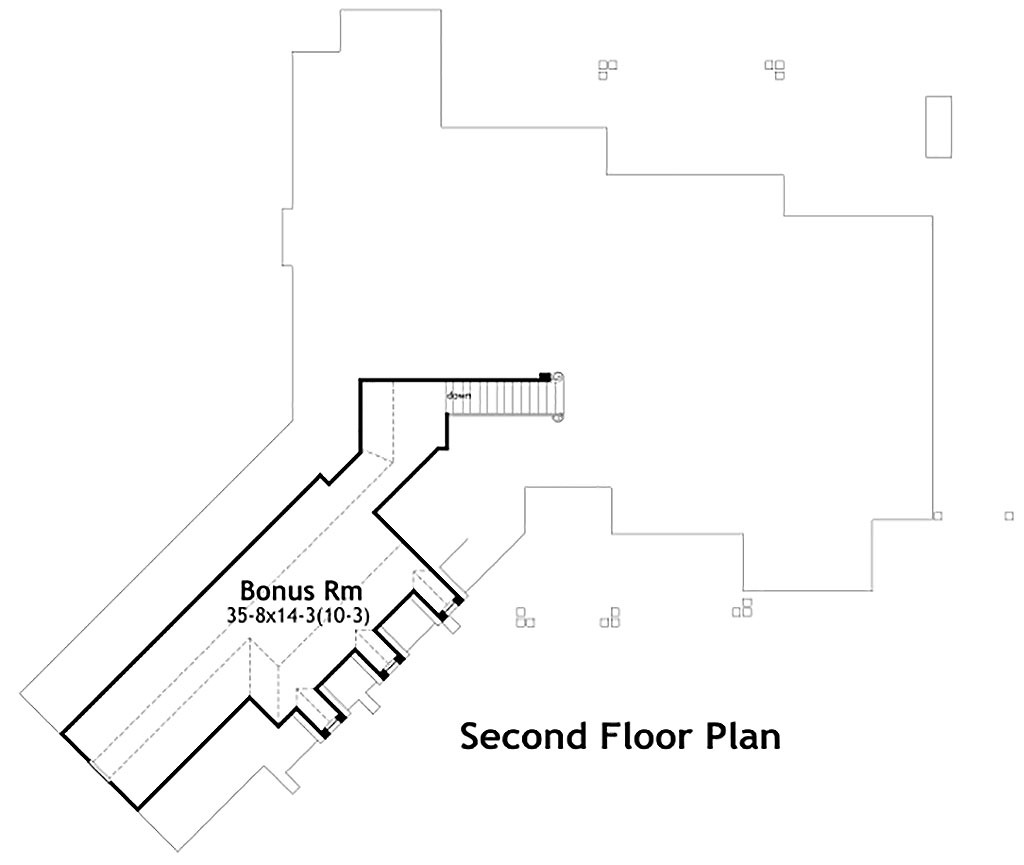stairs: (433, 376, 577, 425)
